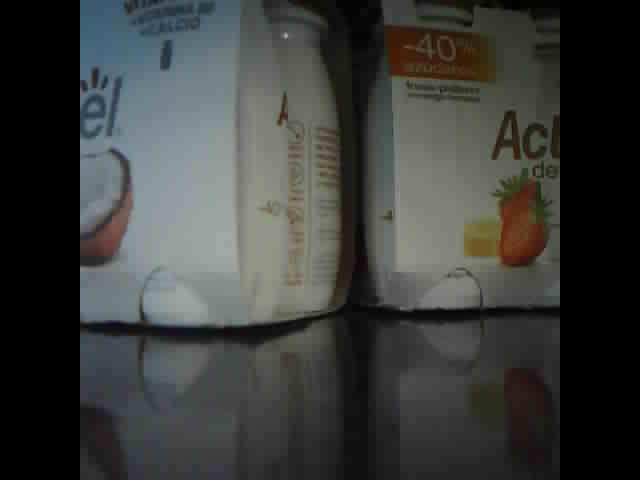actimel: (81, 1, 359, 325), (369, 1, 560, 310)
